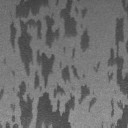red iron: (5, 0, 90, 128), (107, 18, 128, 98), (110, 99, 128, 128), (88, 96, 96, 112), (120, 0, 128, 12), (93, 62, 100, 73), (0, 89, 4, 99), (54, 0, 60, 6), (72, 48, 75, 58), (64, 46, 66, 52)
